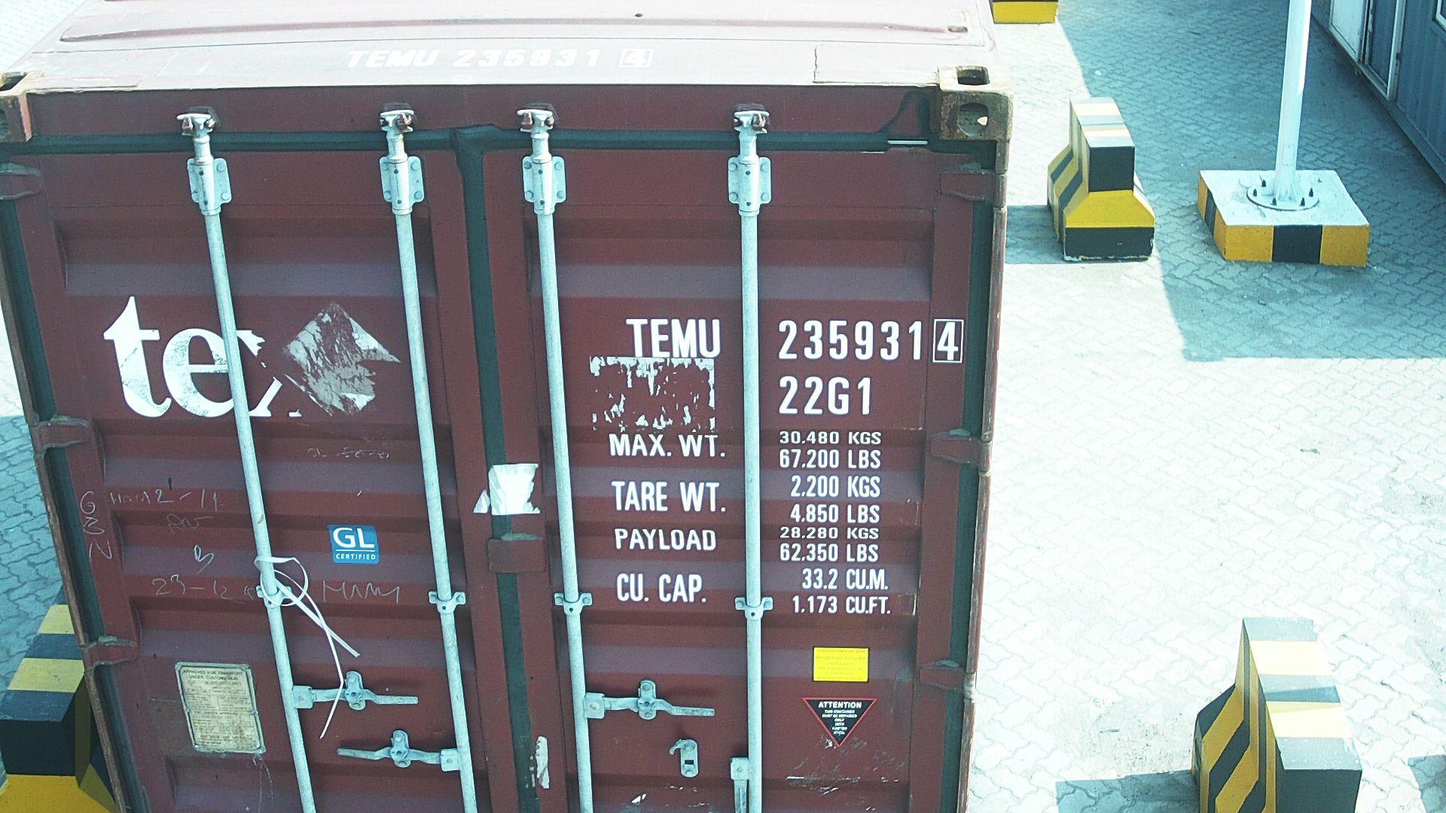container-numbers: (625, 313, 969, 367), (336, 42, 664, 72), (774, 373, 875, 419)
